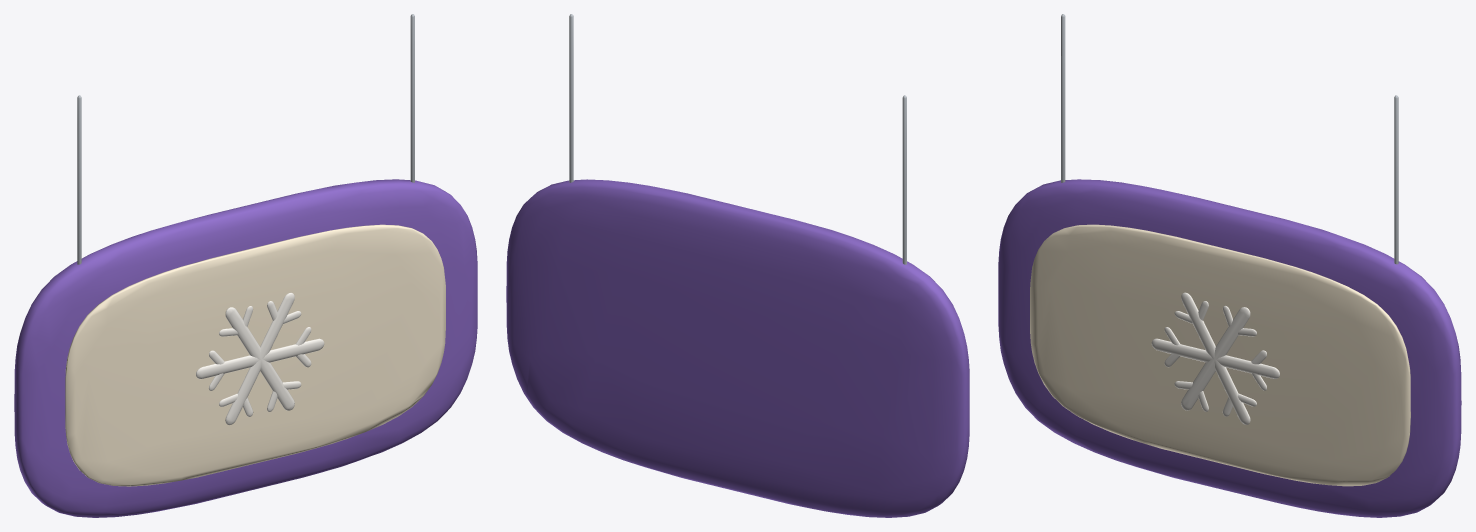
File: letrero_congelados.glb
3 renders of one model, left to right at view 1: azimuth 30°, elevation 25°; view 2: azimuth 150°, elevation 25°; view 3: azimuth 330°, elevation 25°, orthographic.
Visible parts, largest first — view 1: placa letrero.005, letrero sección.005, brazo 1.001, brazo 2.001, brazo 0.001, cadena letrero.010, cadena letrero.011; view 2: letrero sección.005, cadena letrero.010, cadena letrero.011; view 3: placa letrero.005, letrero sección.005, brazo 2.001, brazo 1.001, brazo 0.001, cadena letrero.011, cadena letrero.010.
Part boxes in pixels (bbox=[...]): placa letrero.005: bbox=[65, 224, 445, 486]; letrero sección.005: bbox=[14, 179, 477, 517]; brazo 1.001: bbox=[225, 292, 294, 425]; brazo 2.001: bbox=[225, 307, 294, 410]; brazo 0.001: bbox=[196, 338, 324, 379]; cadena letrero.010: bbox=[77, 95, 81, 264]; cadena letrero.011: bbox=[410, 14, 414, 182]; letrero sección.005: bbox=[506, 179, 969, 517]; cadena letrero.010: bbox=[902, 95, 906, 264]; cadena letrero.011: bbox=[569, 14, 573, 182]; placa letrero.005: bbox=[1030, 224, 1410, 486]; letrero sección.005: bbox=[998, 179, 1461, 517]; brazo 2.001: bbox=[1181, 292, 1250, 424]; brazo 1.001: bbox=[1181, 307, 1250, 410]; brazo 0.001: bbox=[1151, 338, 1279, 378]; cadena letrero.011: bbox=[1394, 95, 1398, 264]; cadena letrero.010: bbox=[1061, 14, 1065, 182].
Size of the model in its own units: 1.16 by 1.05 by 0.1052.
